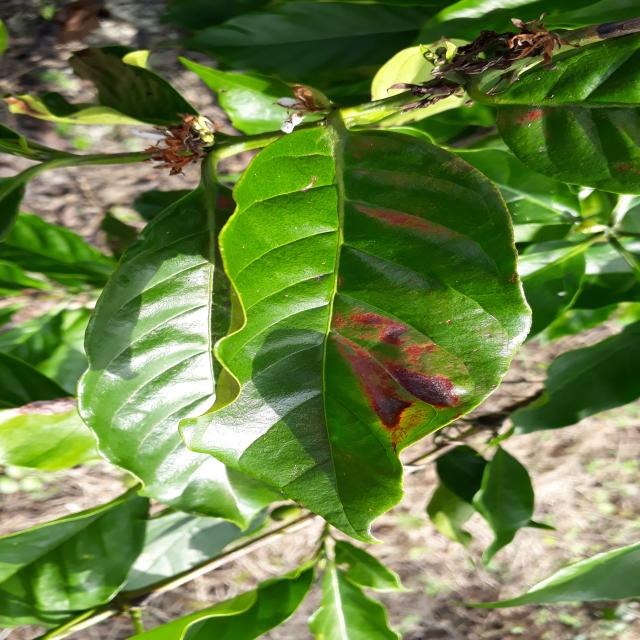Plaga-AranaRoja: (174, 110, 533, 545)
